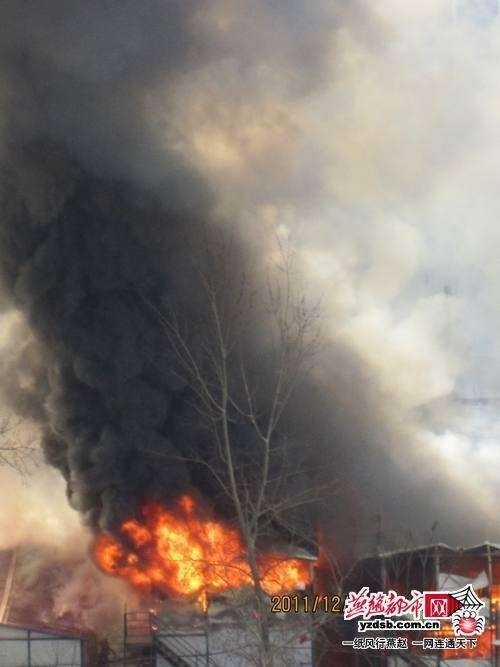fire: (91, 496, 309, 607)
